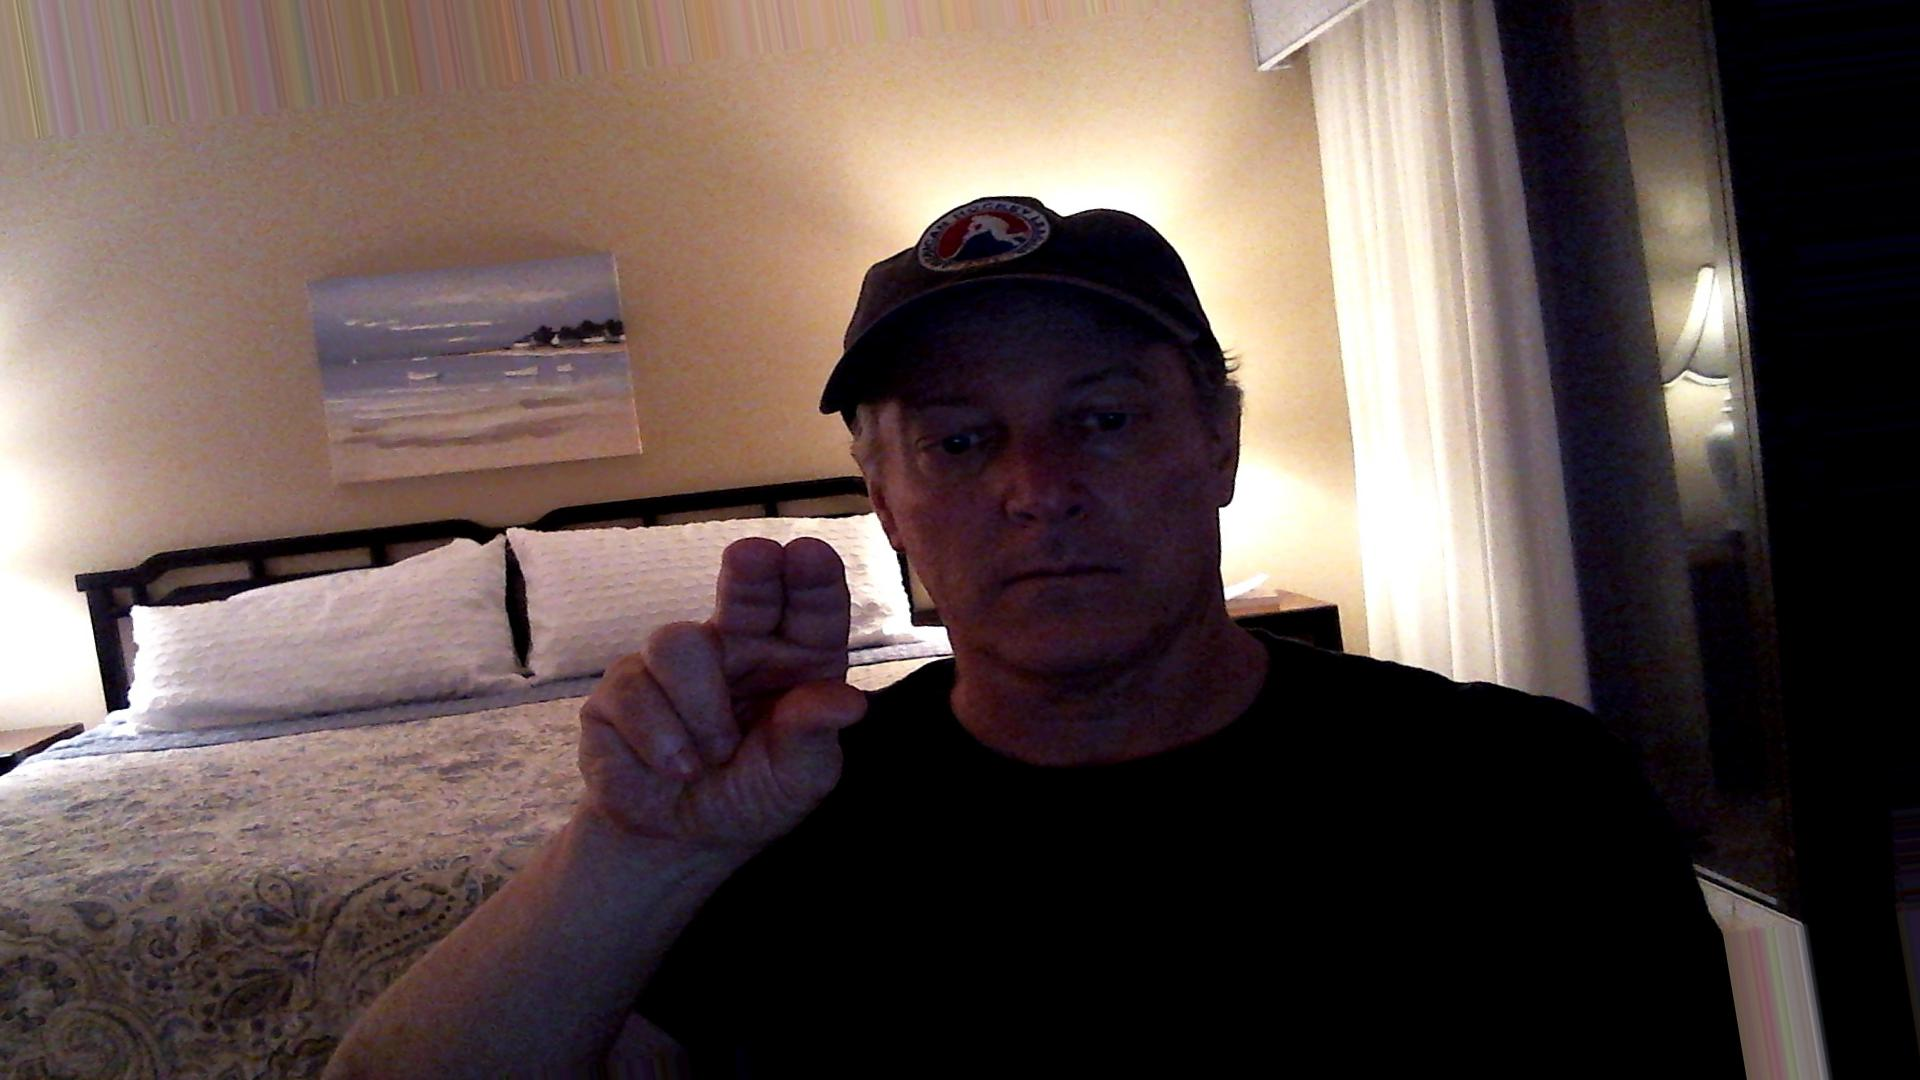No: (563, 514, 907, 868)
